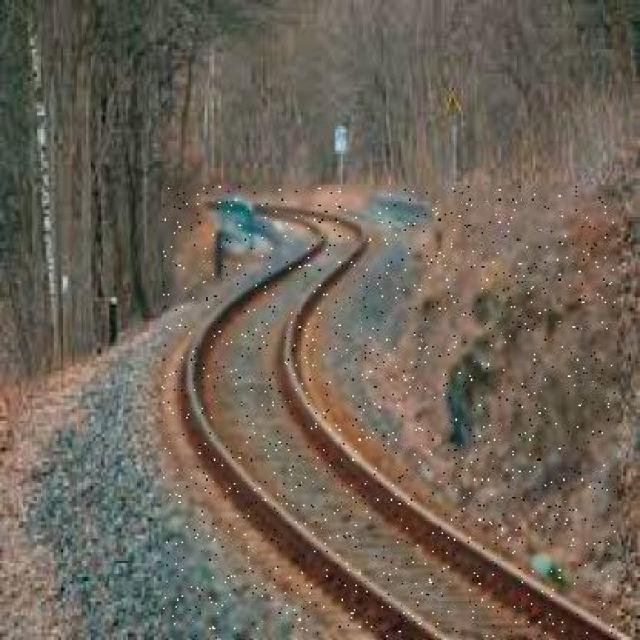rail: (162, 186, 615, 638)
